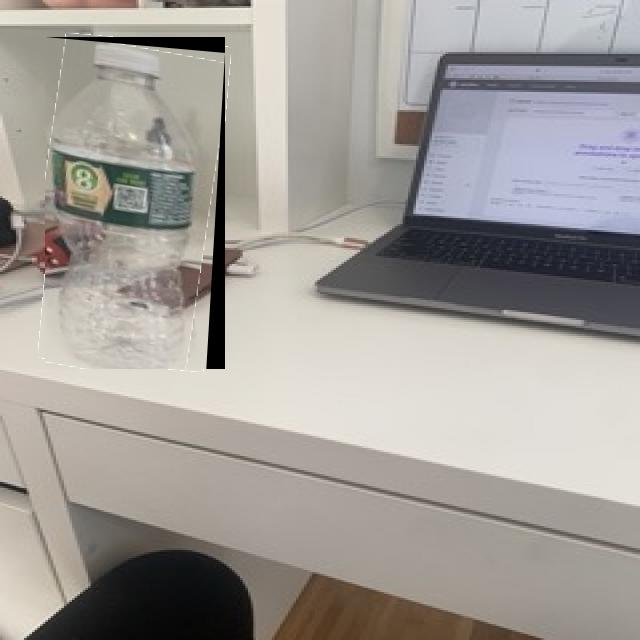water_bottle: (45, 37, 225, 369)
